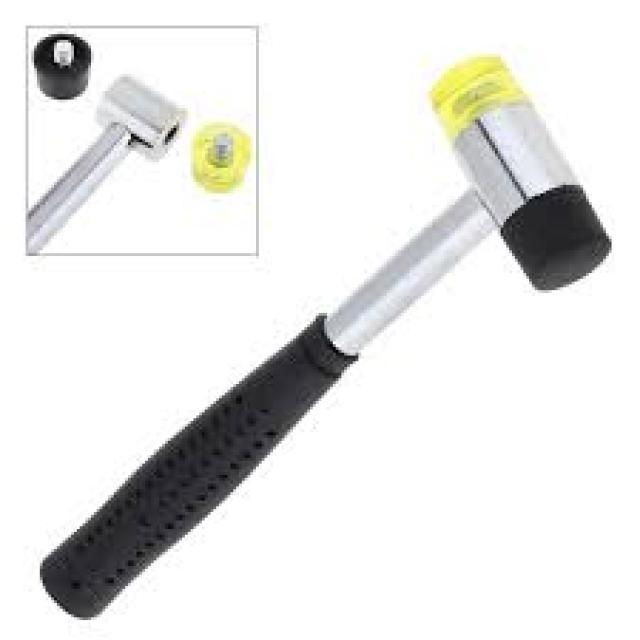Palu: (44, 56, 615, 616)
